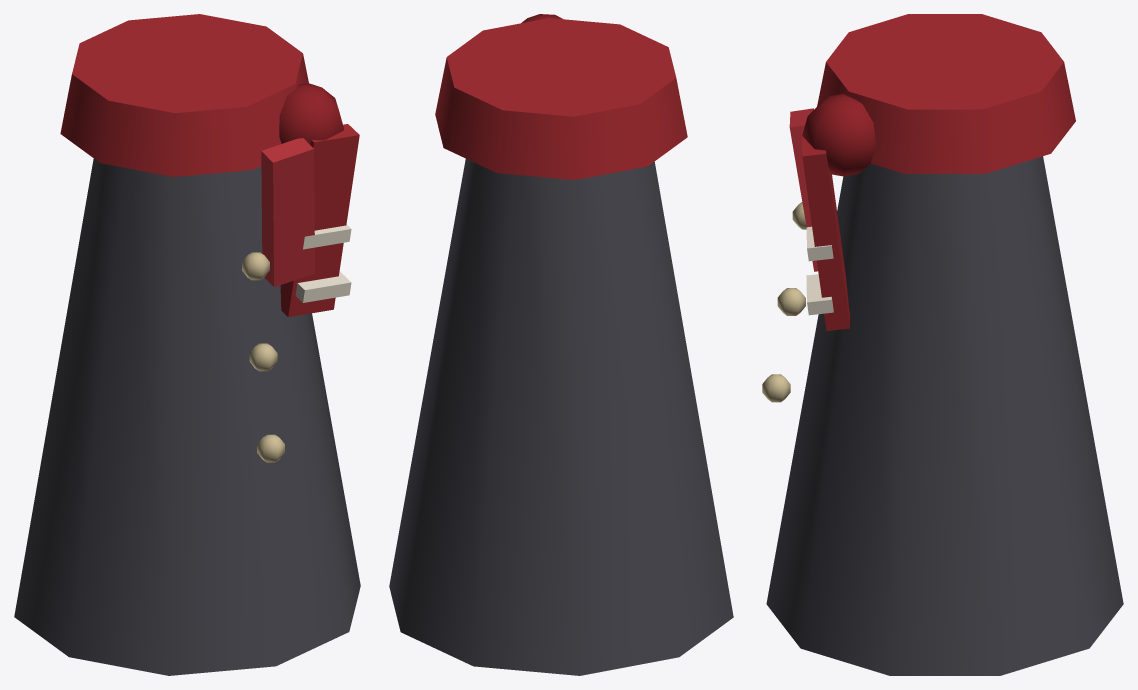
File: cat-coat-2.glb
3 renders of one model, left to right at view 1: azimuth 30°, elevation 25°; view 2: azimuth 150°, elevation 25°; view 3: azimuth 270°, elevation 25°, orthographic.
Parts seen in each view (by area): view 1: 00_#4a4a52_r320, 01_#a3262c_r110, 03_#b83038_r110, 02_#8a1c22_r110, 05_#c8b890_noshadow_r110, 04_#e8e0d0_noshadow_r110; view 2: 00_#4a4a52_r320, 01_#a3262c_r110; view 3: 00_#4a4a52_r320, 01_#a3262c_r110, 02_#8a1c22_r110, 05_#c8b890_noshadow_r110, 04_#e8e0d0_noshadow_r110, 03_#b83038_r110.
Part boxes in pixels (x1,y1,x2,y2): 00_#4a4a52_r320: (14,158,360,675); 01_#a3262c_r110: (60,14,359,316); 03_#b83038_r110: (261,138,315,287); 02_#8a1c22_r110: (279,83,343,144); 05_#c8b890_noshadow_r110: (242,252,284,462); 04_#e8e0d0_noshadow_r110: (295,224,351,302); 00_#4a4a52_r320: (389,159,733,675); 01_#a3262c_r110: (435,18,687,179); 00_#4a4a52_r320: (766,156,1123,675); 01_#a3262c_r110: (802,14,1075,330); 02_#8a1c22_r110: (802,93,876,176); 05_#c8b890_noshadow_r110: (762,202,806,402); 04_#e8e0d0_noshadow_r110: (806,226,833,315); 03_#b83038_r110: (789,108,817,271).
Size of the model in its own units: 0.5706 by 1 by 0.607.
